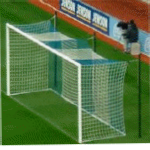goals: (3, 17, 127, 144)
